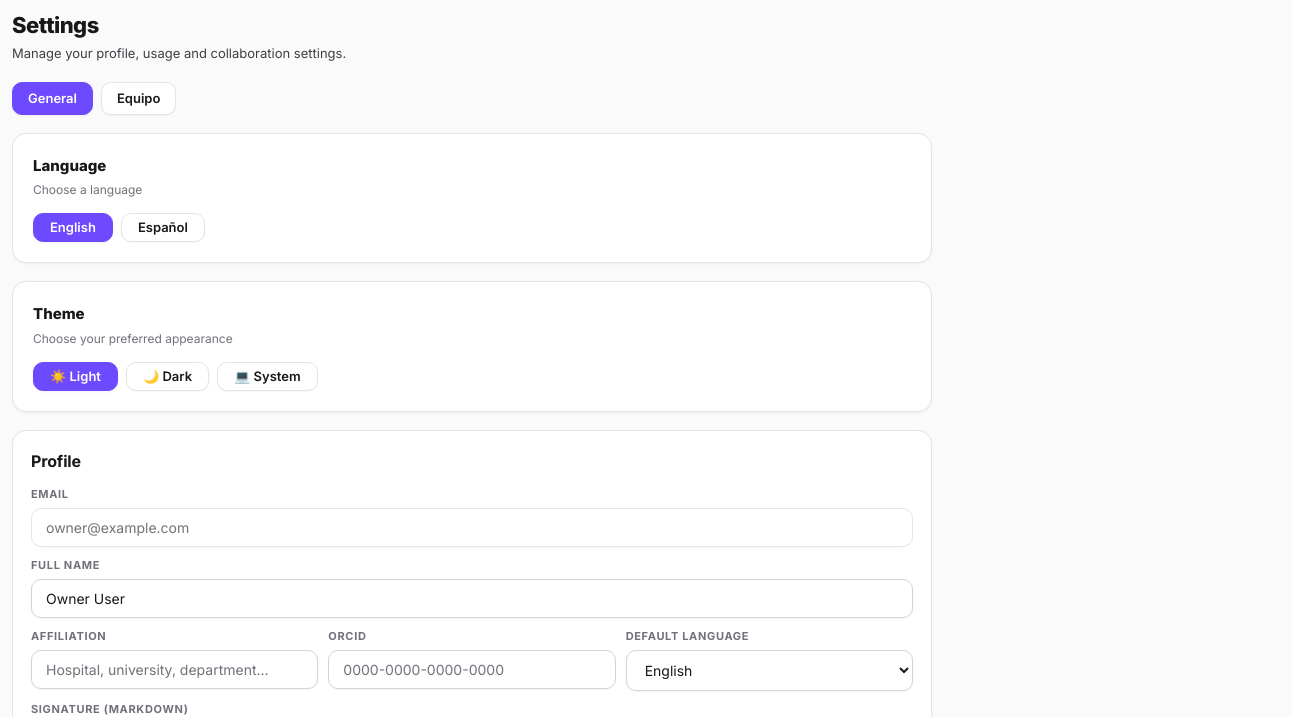
SettingsPage › validates invite email before sending a team invitation
Click the button "Equipo" at {"x": 139, "y": 98}, box [101,82,176,114]
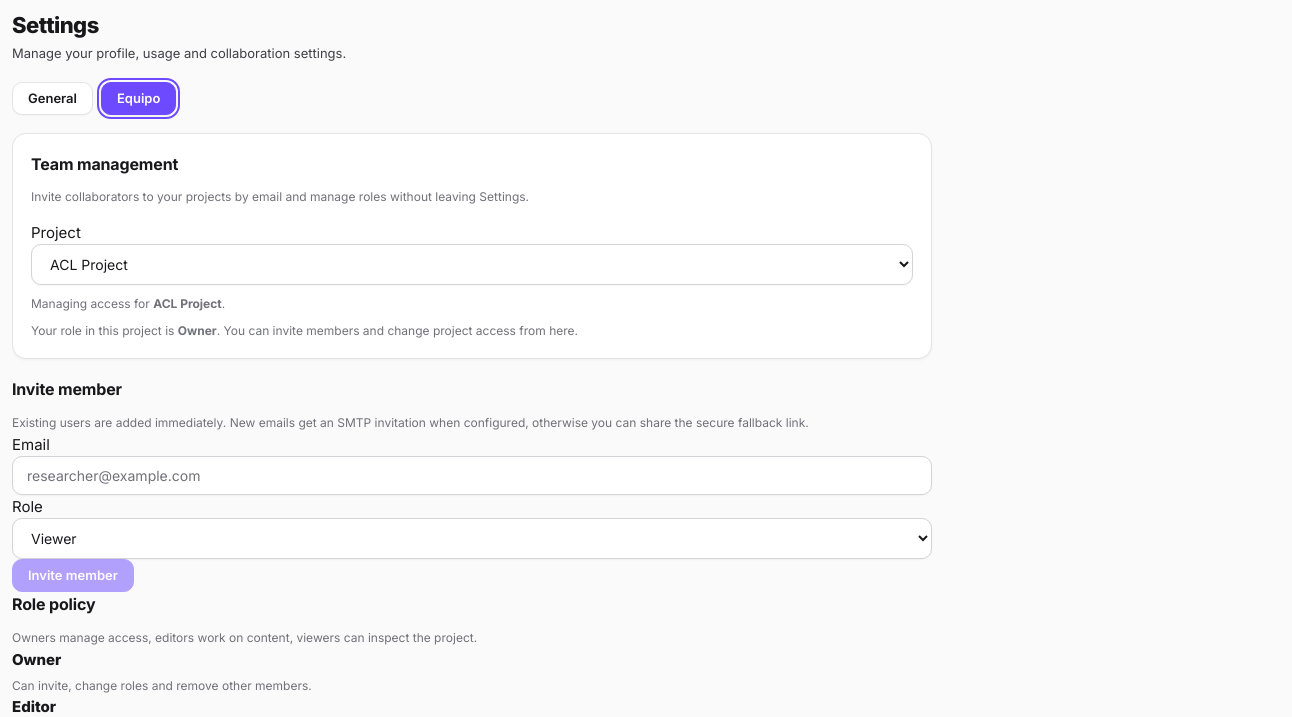
Expected: the text "Team management" is shown, [31,154,178,174]
Type "invalid-email" into the field with placeholder "researcher@example.com" at {"x": 472, "y": 476}, box [12,456,932,495]
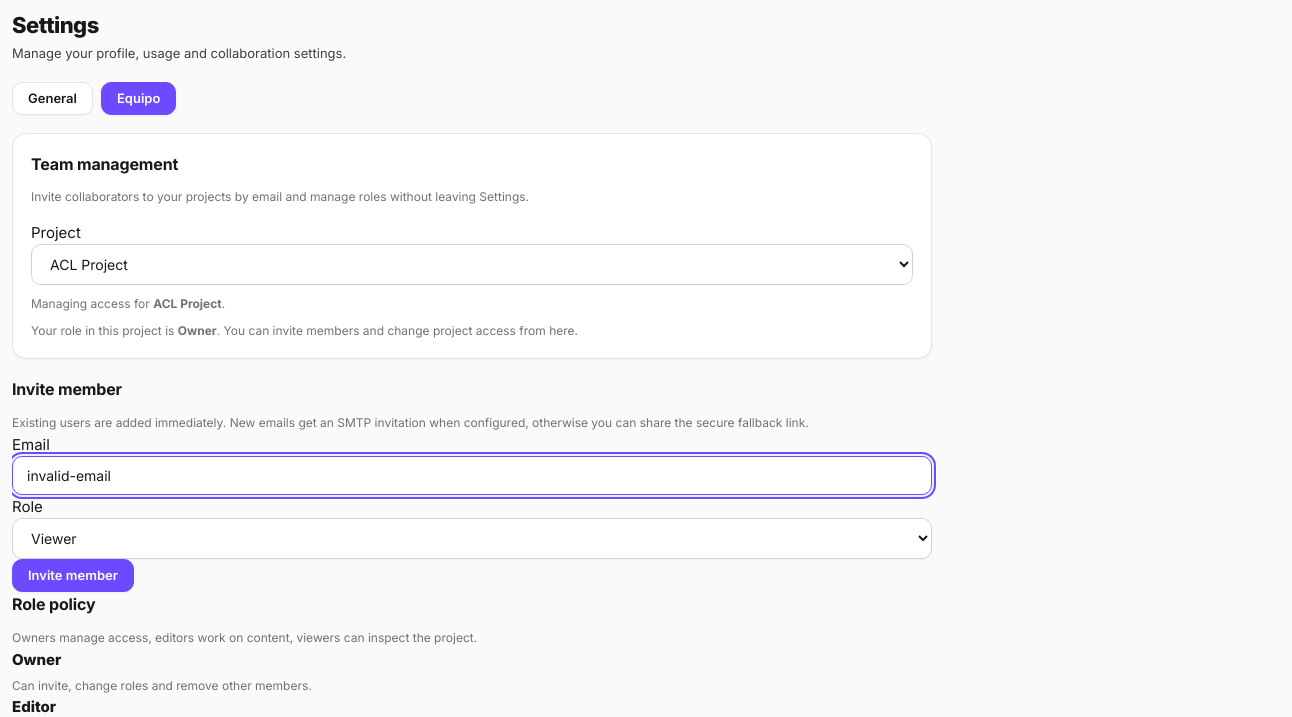
Click the button "Invite member" at {"x": 73, "y": 576}, box [12,559,134,592]
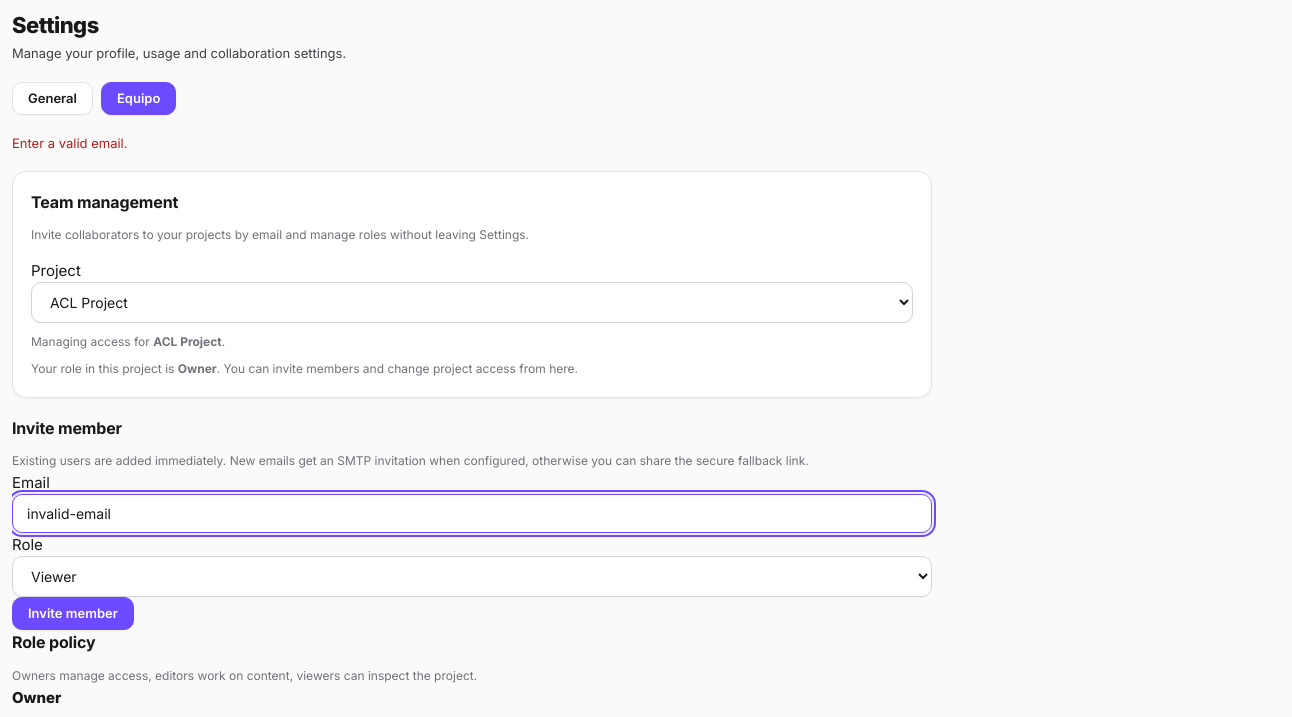
Expected: the text "Enter a valid email." is shown, [12,134,128,150]
